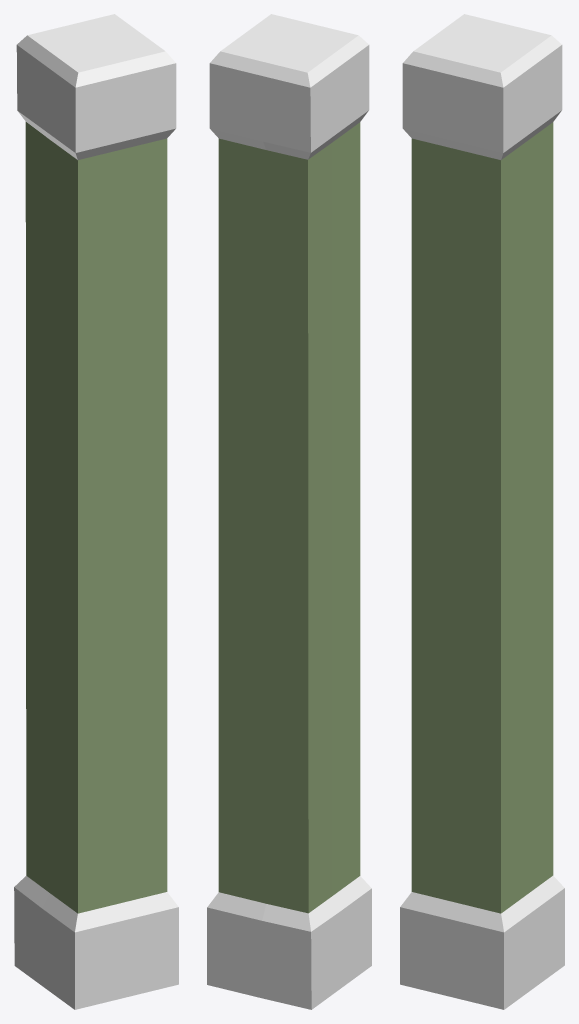
The model's file is g_o_RelaxWallCorner360.fbx.
3 renders of one model, left to right at view 1: azimuth 30°, elevation 25°; view 2: azimuth 150°, elevation 25°; view 3: azimuth 330°, elevation 25°, orthographic.
Parts seen in each view (by area): view 1: g_o_RelaxWallCorner360; view 2: g_o_RelaxWallCorner360; view 3: g_o_RelaxWallCorner360.
Part boxes in pixels (bbox=[...]): g_o_RelaxWallCorner360: bbox=[14, 14, 178, 1009]; g_o_RelaxWallCorner360: bbox=[207, 14, 371, 1009]; g_o_RelaxWallCorner360: bbox=[400, 14, 564, 1009].
Bounding box in the file's own units: 0.2198 × 1.88 × 0.2223.
